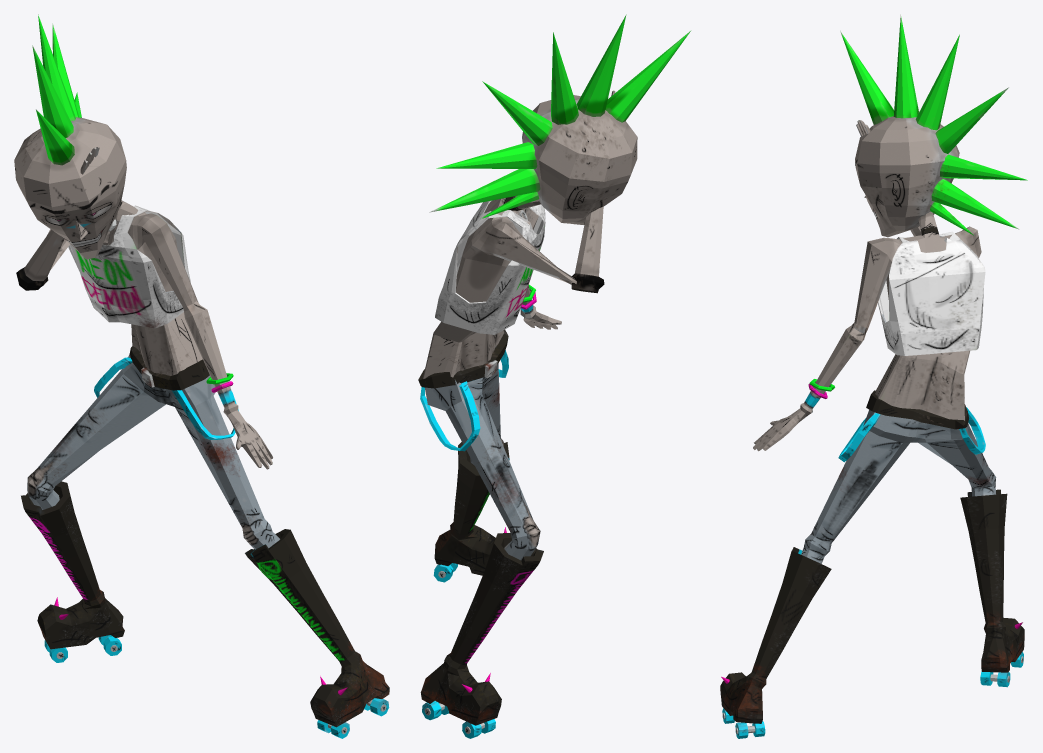
Rendered from punkAnimation_000063.obj.
3 views of the same model, side by side, from view 1: azimuth 30°, elevation 25°; view 2: azimuth 150°, elevation 25°; view 3: azimuth 270°, elevation 25° (orthographic). The views are drawn at different scales.
Parts seen in each view (by area): view 1: Cube.004_Cube.003; view 2: Cube.004_Cube.003; view 3: Cube.004_Cube.003.
Boxes of the visible parts, x1,y1,x2,y2 form: Cube.004_Cube.003: (14,14,389,738); Cube.004_Cube.003: (418,14,691,738); Cube.004_Cube.003: (720,14,1027,738).
Size of the model in its own units: 3.1 by 6.72 by 3.06.
